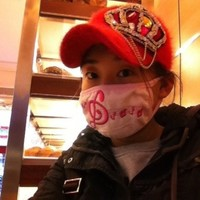face_mask: (79, 45, 158, 138)
